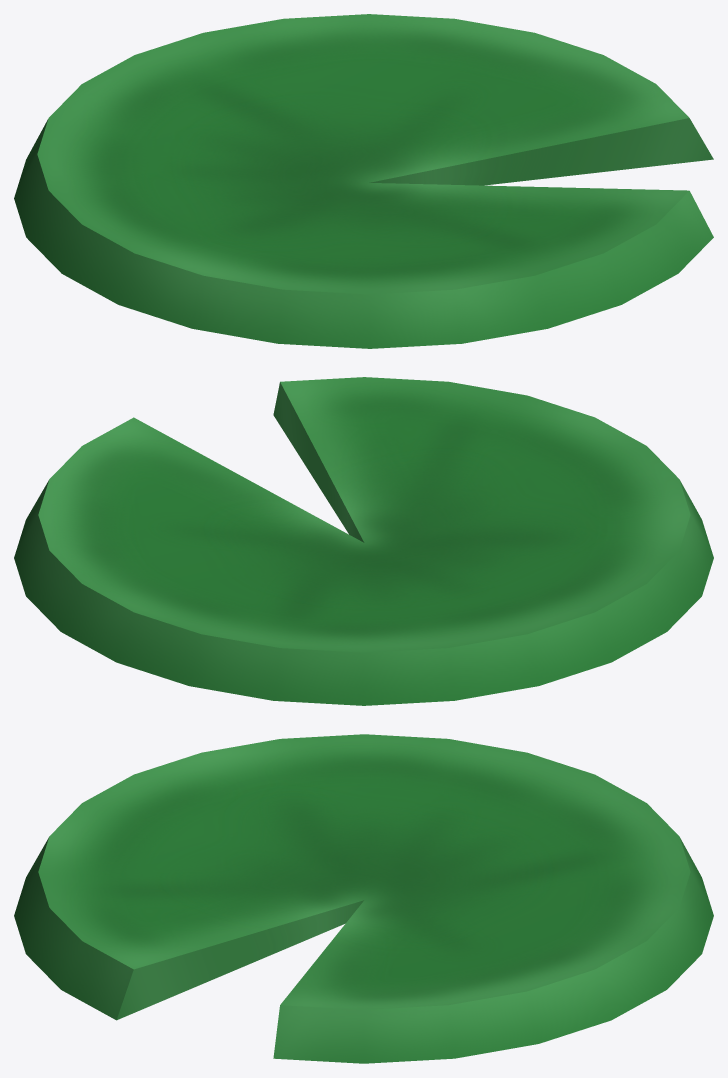
The model's file is R4YL_PROP_Nenufar.FBX.
3 views of the same model, one above another, from view 1: azimuth 30°, elevation 25°; view 2: azimuth 150°, elevation 25°; view 3: azimuth 270°, elevation 25° (orthographic).
Parts seen in each view (by area): view 1: R4YL_PROP_Nenufar; view 2: R4YL_PROP_Nenufar; view 3: R4YL_PROP_Nenufar.
Boxes of the visible parts, left/top/right/bottom form: R4YL_PROP_Nenufar: left=14, top=14, right=713, bottom=348; R4YL_PROP_Nenufar: left=14, top=377, right=713, bottom=705; R4YL_PROP_Nenufar: left=14, top=734, right=713, bottom=1063.
Bounding box in the file's own units: 124 × 8.5 × 124.
